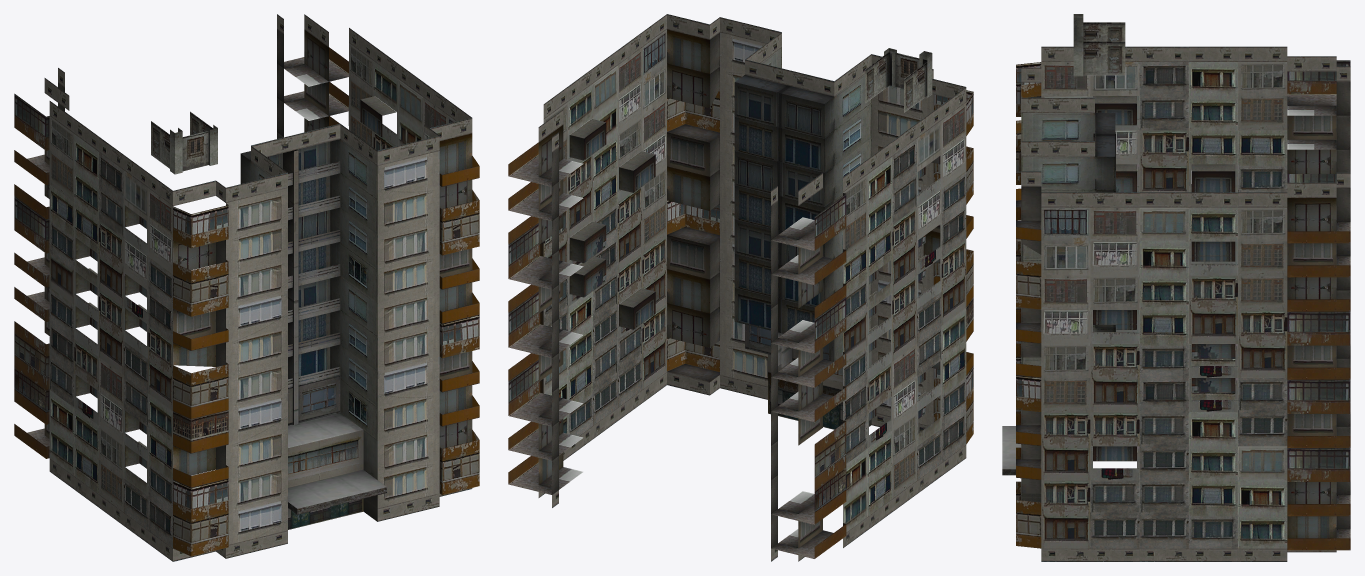
The model's file is Ruin_Apartment_02.fbx.
3 views of the same model, side by side, from view 1: azimuth 30°, elevation 25°; view 2: azimuth 150°, elevation 25°; view 3: azimuth 270°, elevation 25° (orthographic).
Parts seen in each view (by area): view 1: Ruin_Apartment_02_Part0_project_building03; view 2: Ruin_Apartment_02_Part0_project_building03; view 3: Ruin_Apartment_02_Part0_project_building03.
Part boxes in pixels (x1,y1,x2,y2): Ruin_Apartment_02_Part0_project_building03: (14, 14, 479, 561); Ruin_Apartment_02_Part0_project_building03: (508, 14, 973, 561); Ruin_Apartment_02_Part0_project_building03: (1002, 14, 1350, 561).
Bounding box in the file's own units: 1.43 × 1.84 × 1.41.
